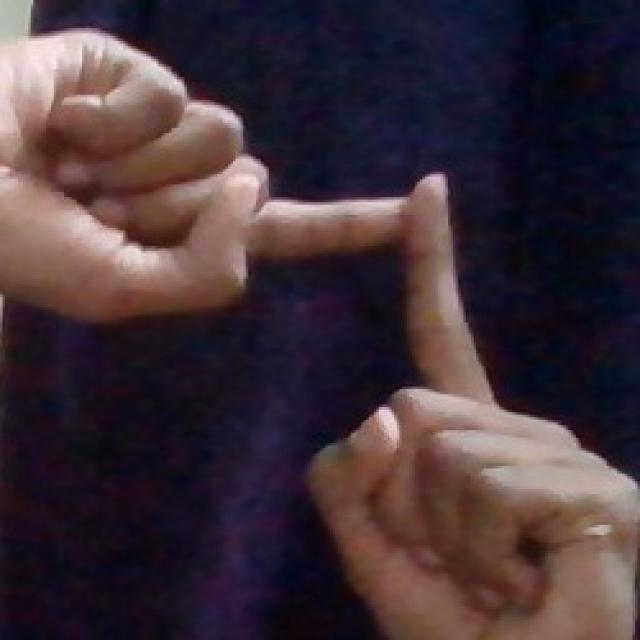Alphabet-E: (0, 31, 408, 323)
